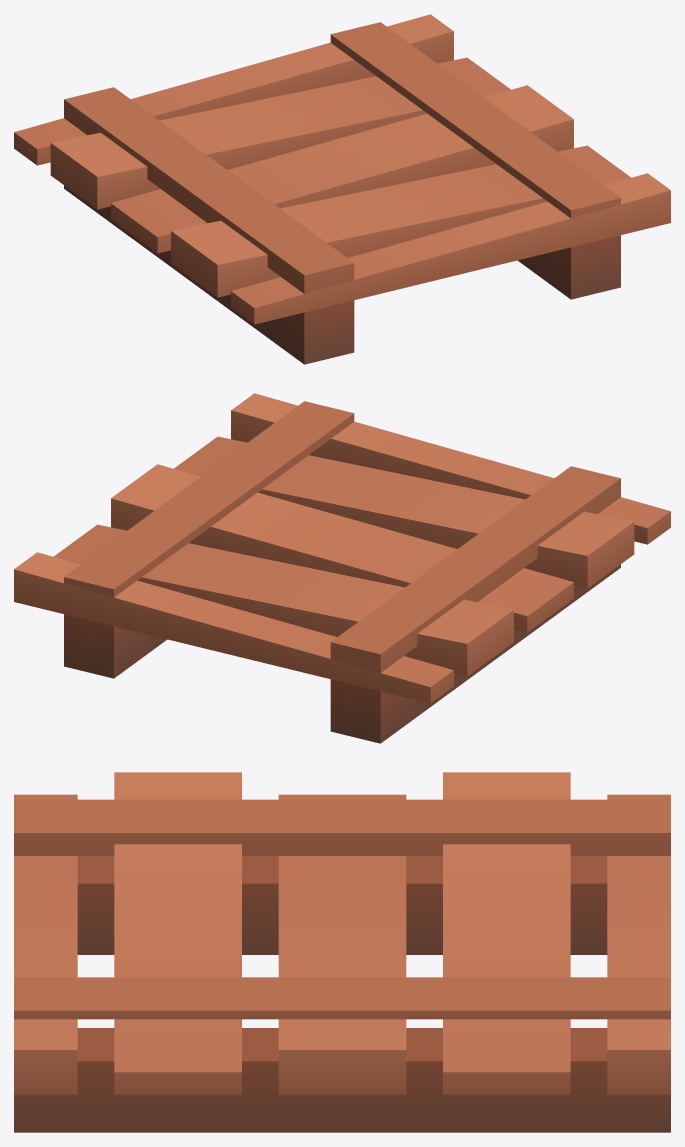
Rendered from platform-fortified.glb.
The picture shows the model from 3 angles, top to bottom: view 1: azimuth 30°, elevation 25°; view 2: azimuth 150°, elevation 25°; view 3: azimuth 270°, elevation 25°; orthographic projection. The views are drawn at different scales.
Visible parts, largest first — view 1: platform-fortified; view 2: platform-fortified; view 3: platform-fortified.
Part boxes in pixels (x1,y1,x2,y2): platform-fortified: (14, 14, 670, 364); platform-fortified: (14, 393, 670, 743); platform-fortified: (14, 772, 670, 1132).
Size of the model in its own units: 1 by 0.205 by 1.
1 material, 1 textured.
